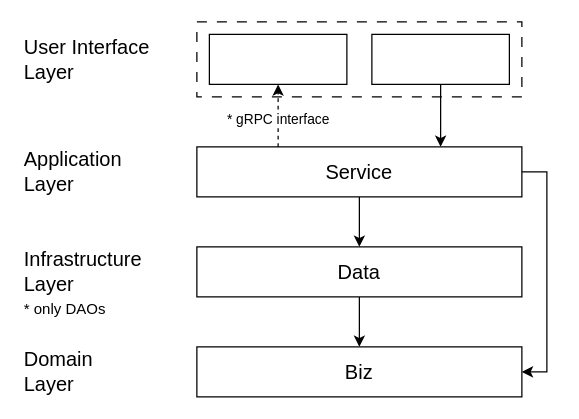
Some shapes in this 579 by 419 pixel diagram are drawn without their labels. The box of each missing label's shape, as (x1, y1, x2, y2) in pixels:
API: (208, 33, 347, 84)
Server: (371, 33, 509, 84)
